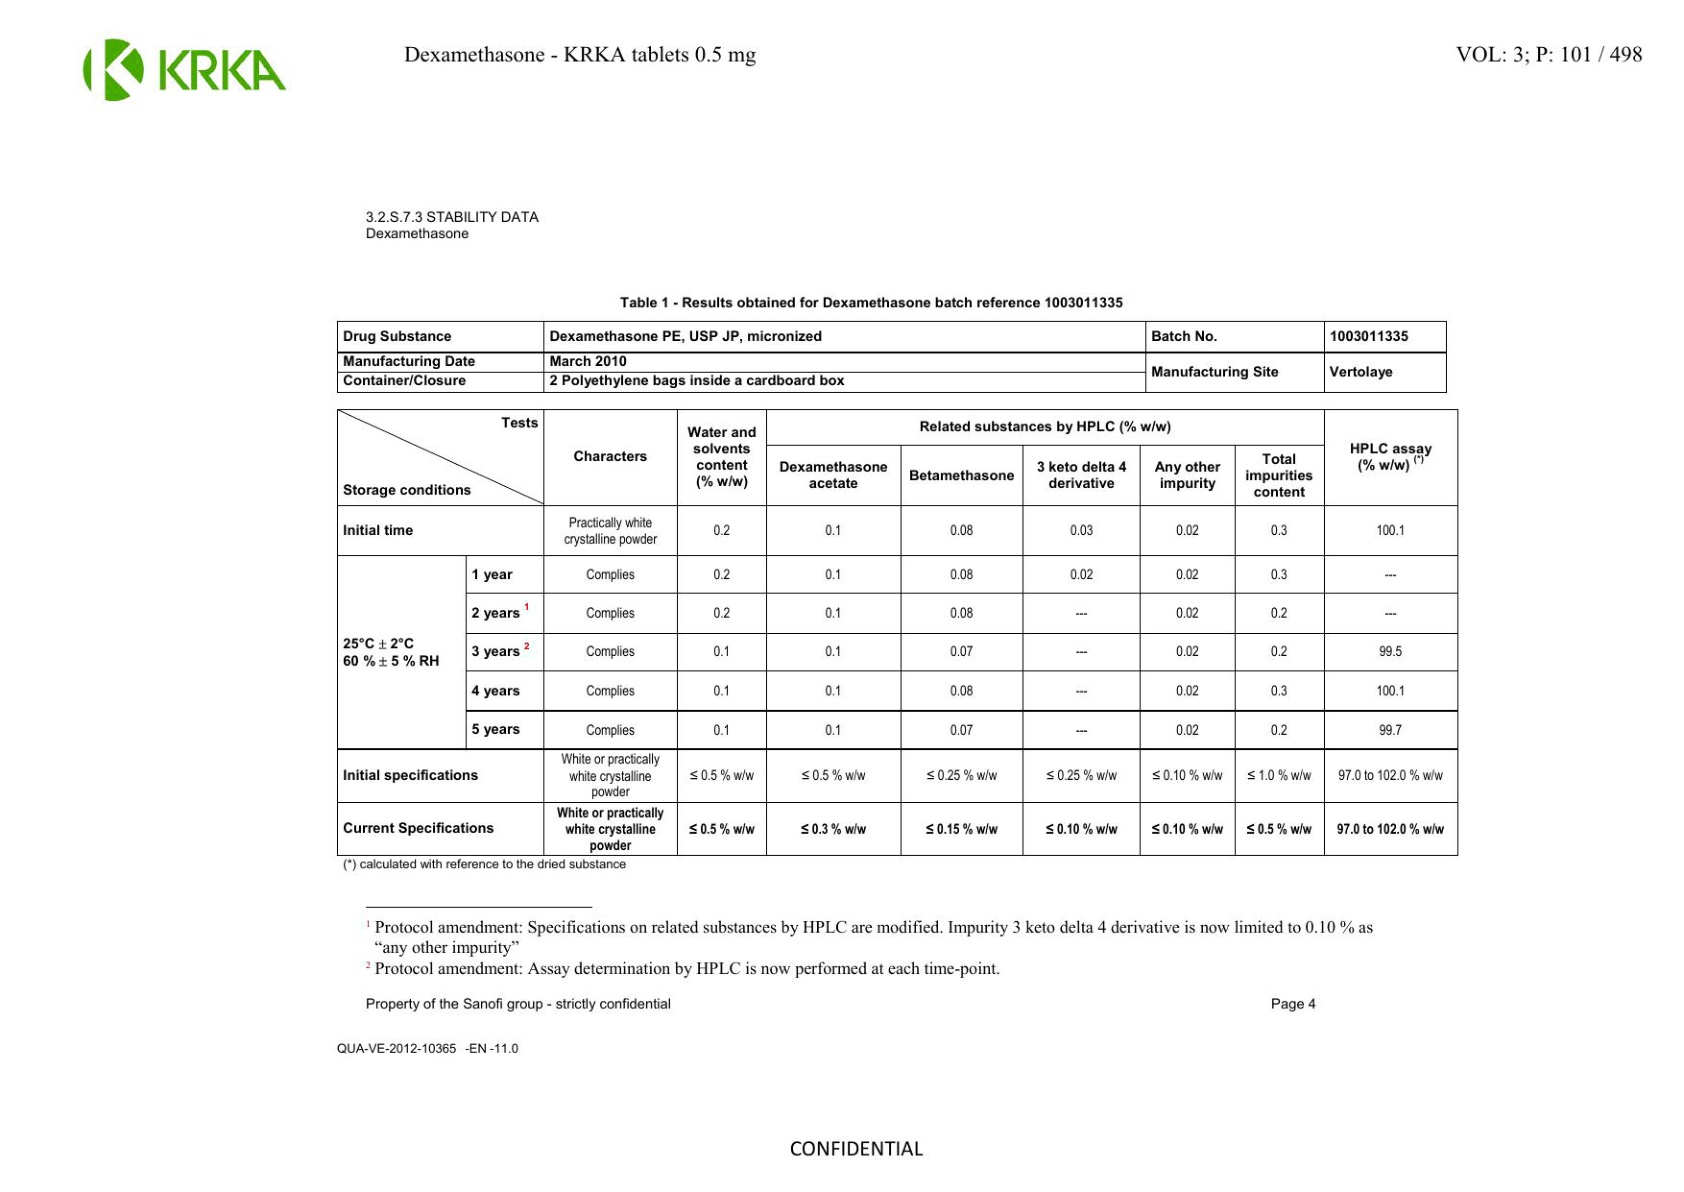merged_cells: (337, 408, 1460, 857), (337, 320, 1448, 393)
